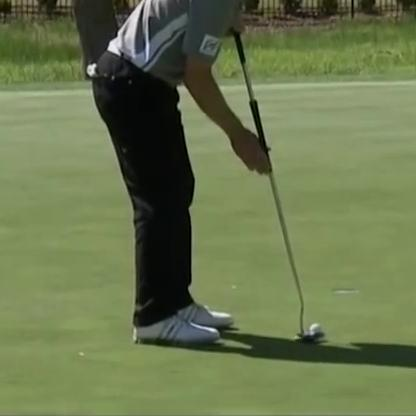golfball: (307, 321, 323, 334)
